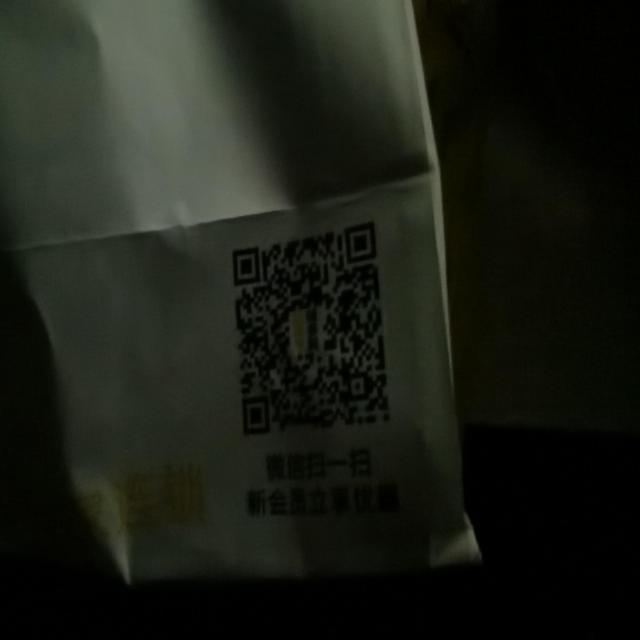qr_code: (232, 220, 392, 437)
